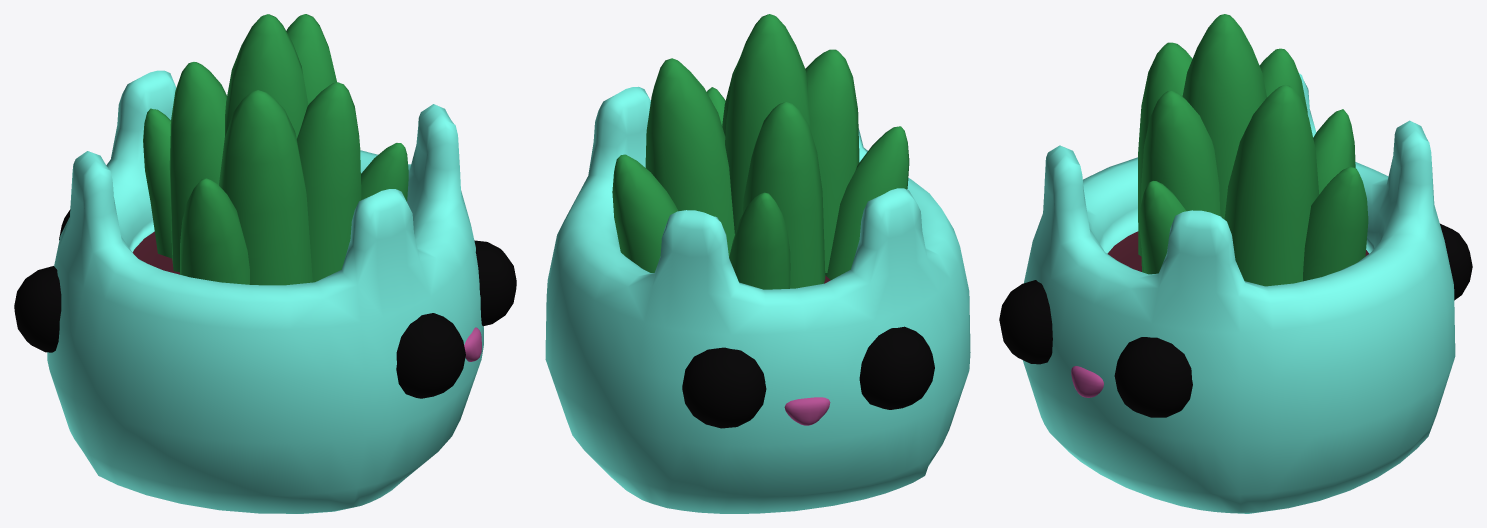
File: TableDecor_02_PastelPop.glb
The picture shows the model from 3 angles, left to right: view 1: azimuth 30°, elevation 25°; view 2: azimuth 150°, elevation 25°; view 3: azimuth 270°, elevation 25°; orthographic projection. The views are drawn at different scales.
Parts seen in each view (by area): view 1: TableDecor_02_PastelPop; view 2: TableDecor_02_PastelPop; view 3: TableDecor_02_PastelPop.
Part boxes in pixels (x1,y1,x2,y2): TableDecor_02_PastelPop: (14, 14, 516, 513); TableDecor_02_PastelPop: (545, 14, 970, 513); TableDecor_02_PastelPop: (999, 14, 1472, 513).
Size of the model in its own units: 0.1383 by 0.1464 by 0.1402.
1 material, 1 textured.
